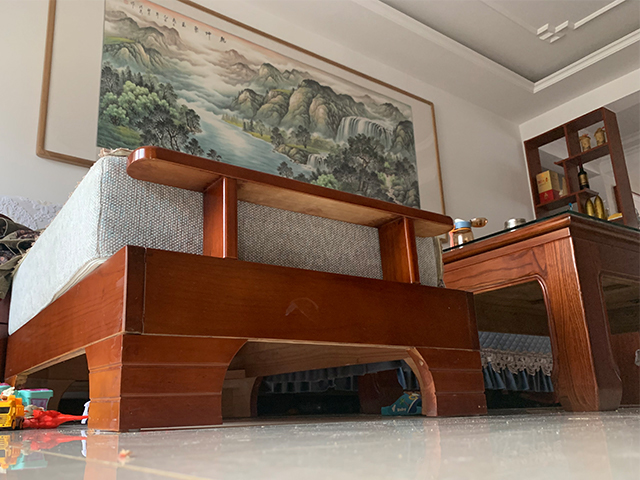sofa: (1, 145, 486, 433)
table: (356, 211, 640, 417)
